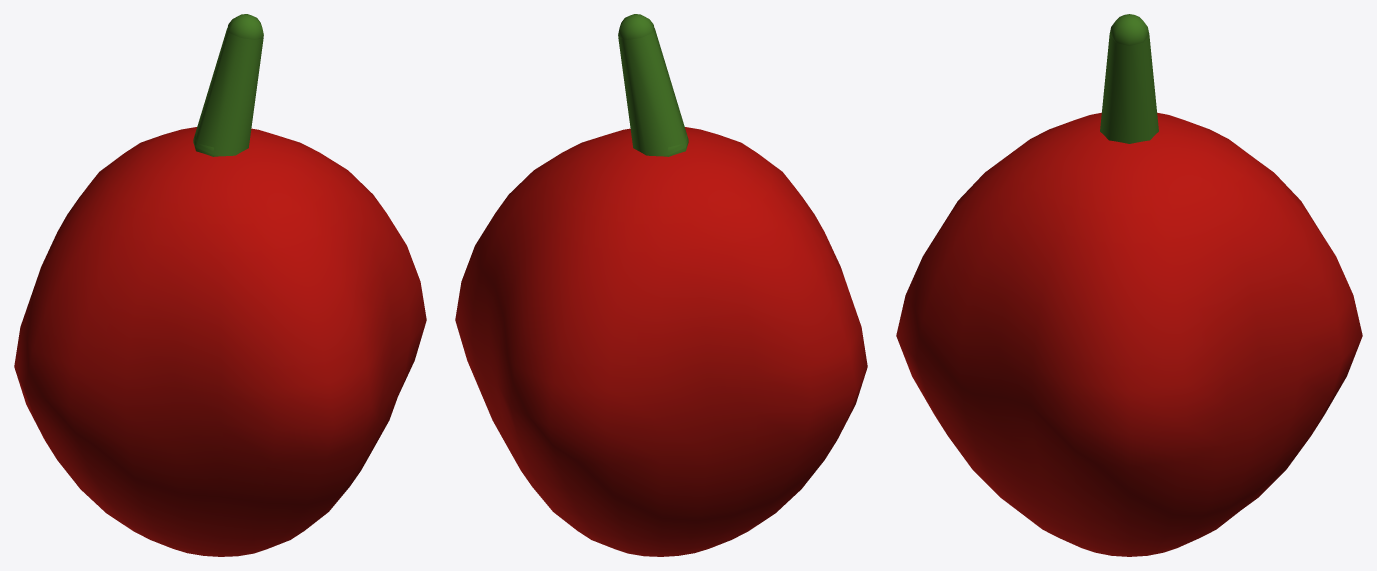
The model's file is Pepper.glb.
3 views of the same model, side by side, from view 1: azimuth 30°, elevation 25°; view 2: azimuth 150°, elevation 25°; view 3: azimuth 270°, elevation 25° (orthographic). The views are drawn at different scales.
Visible parts, largest first — view 1: PepperBody, Stem; view 2: PepperBody, Stem; view 3: PepperBody, Stem.
Boxes of the visible parts, x1,y1,x2,y2 form: PepperBody: (14, 127, 426, 556); Stem: (193, 14, 263, 156); PepperBody: (455, 127, 867, 556); Stem: (618, 14, 688, 156); PepperBody: (896, 112, 1362, 556); Stem: (1100, 14, 1158, 143).
Bounding box in the file's own units: 0.0941 × 0.1202 × 0.0941.
